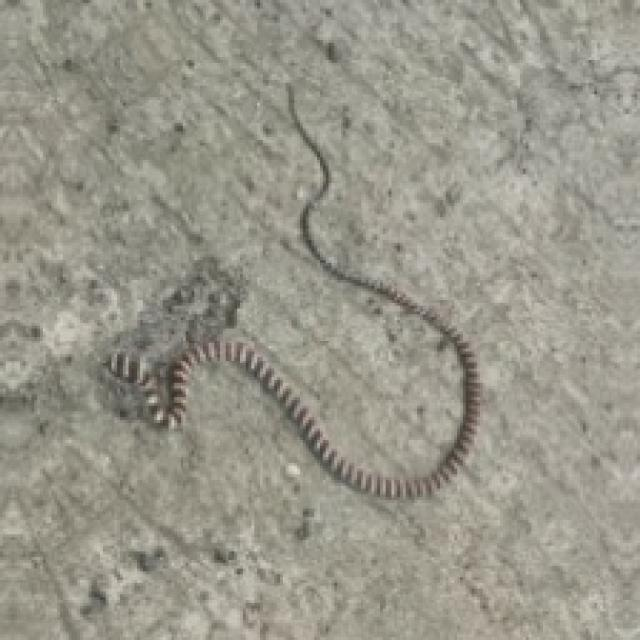paradise tree snake: (109, 88, 482, 498)
